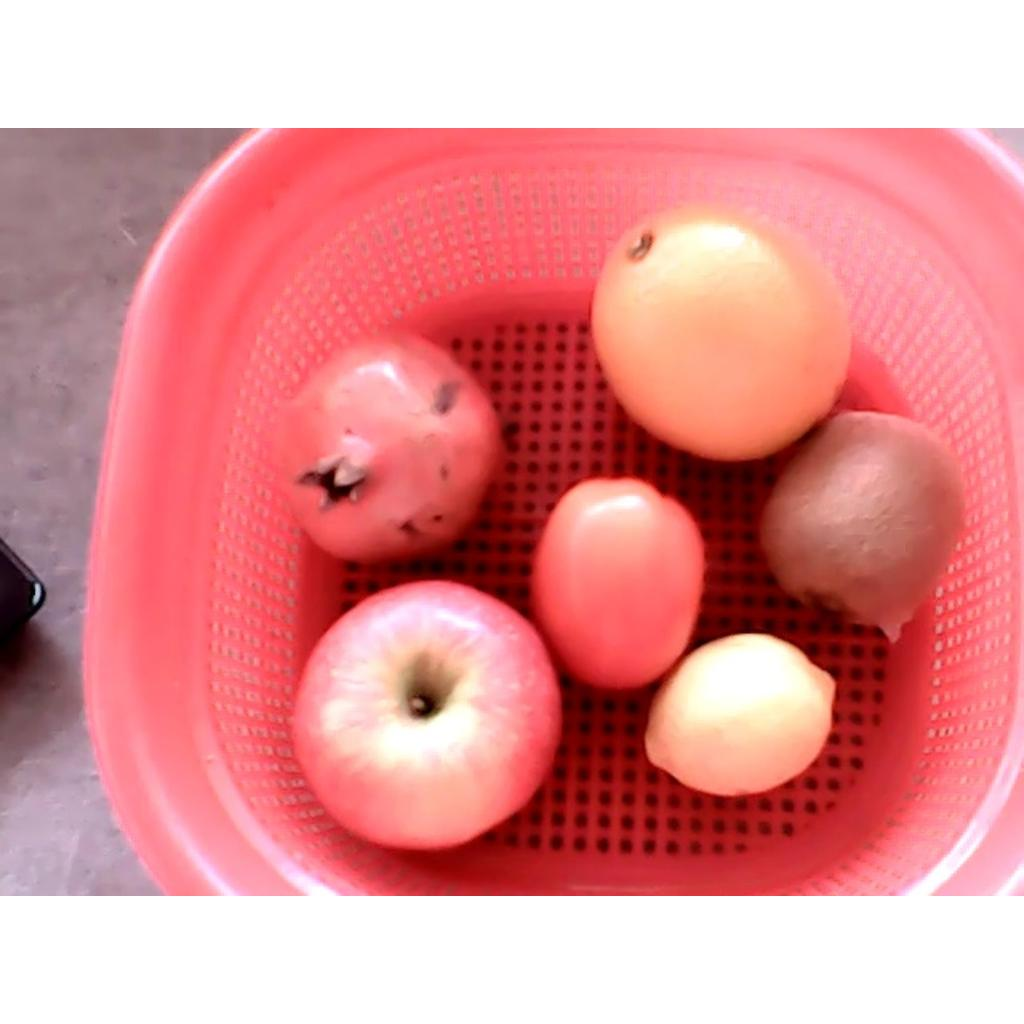apple: (292, 580, 563, 850)
kiwi: (758, 410, 970, 626)
lemon: (645, 631, 837, 798)
orange: (589, 209, 853, 461)
pomegranate: (277, 329, 500, 562)
tomato: (531, 474, 707, 688)
